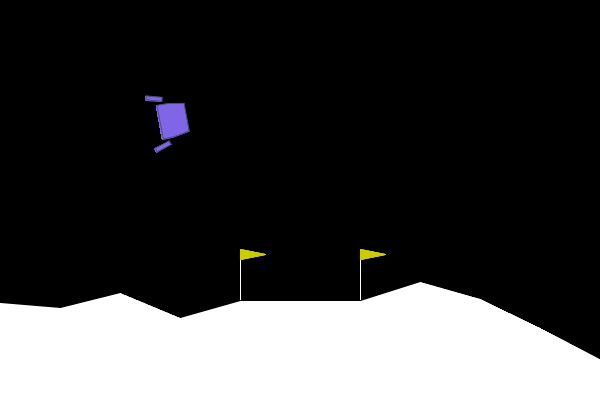lander: (143, 88, 194, 154)
